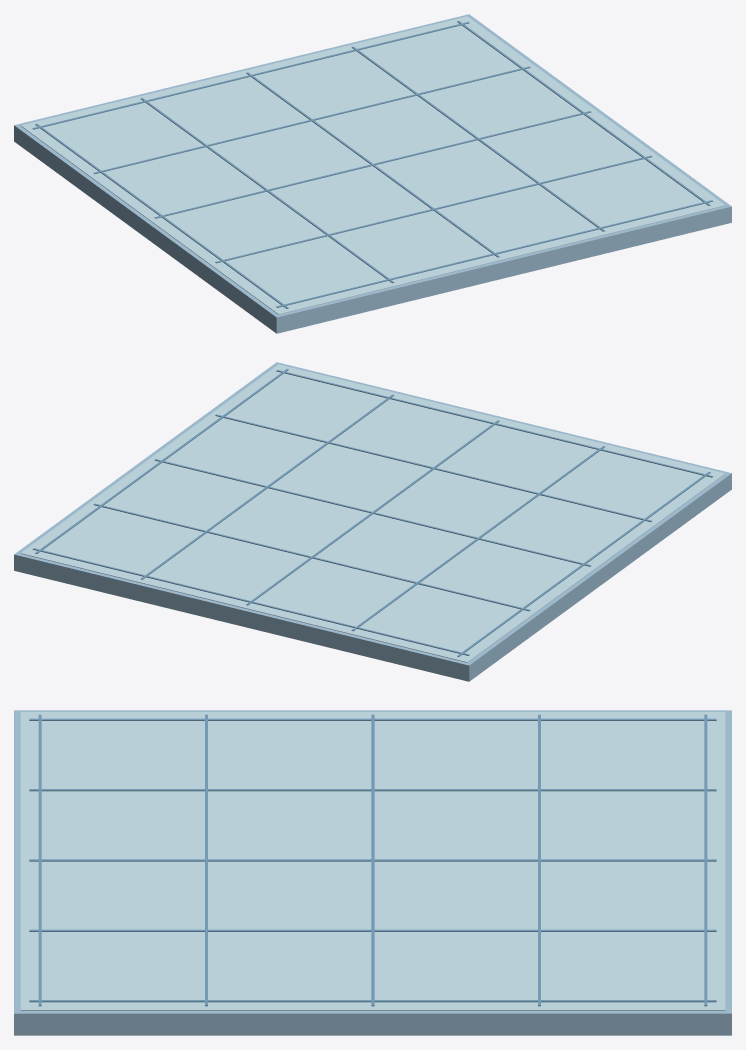
The model's file is tablero_4x4.glb.
The picture shows the model from 3 angles, top to bottom: view 1: azimuth 30°, elevation 25°; view 2: azimuth 150°, elevation 25°; view 3: azimuth 270°, elevation 25°; orthographic projection. The views are drawn at different scales.
Parts seen in each view (by area): view 1: tablero_4x4; view 2: tablero_4x4; view 3: tablero_4x4.
Boxes of the visible parts, box(x1,y1,x2,y2) form: tablero_4x4: box(14, 14, 731, 333); tablero_4x4: box(14, 362, 731, 681); tablero_4x4: box(14, 710, 731, 1035).
Size of the model in its own units: 8.2 by 0.303 by 8.2.
